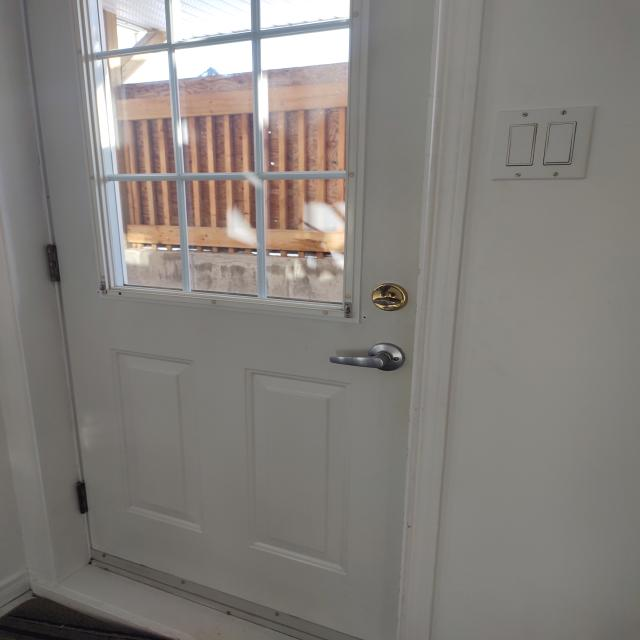door-handle: (329, 342, 406, 371)
